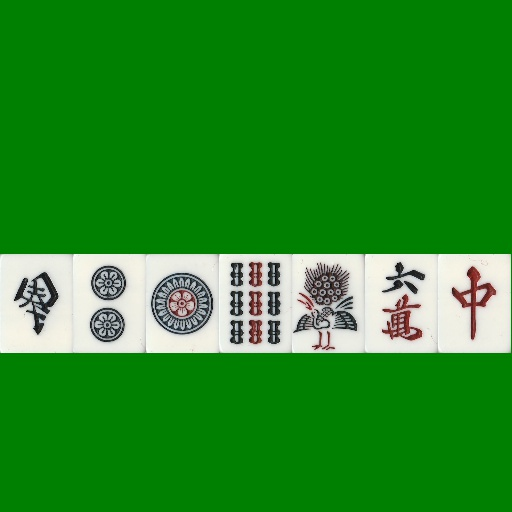1p: (146, 254, 219, 353)
1s: (292, 254, 365, 353)
2p: (73, 254, 146, 353)
6m: (365, 254, 438, 353)
9s: (219, 254, 292, 353)
south: (0, 254, 73, 353)
tyun: (438, 254, 511, 353)
